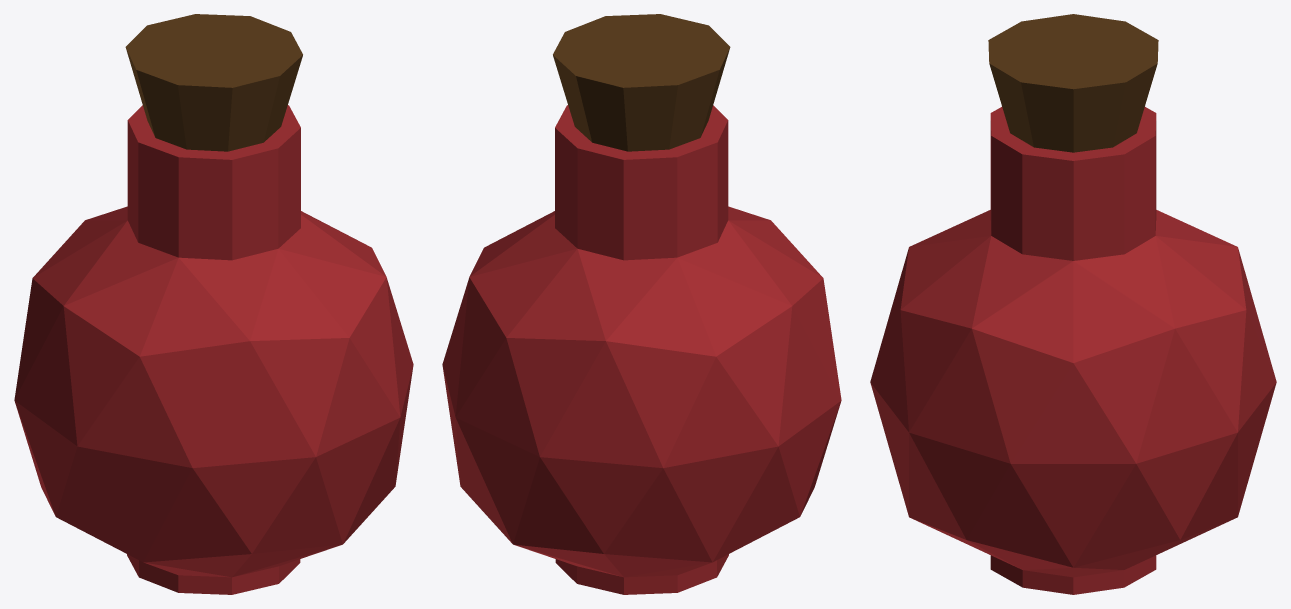
Rendered from MediumPotion.glb.
The picture shows the model from 3 angles, left to right: view 1: azimuth 30°, elevation 25°; view 2: azimuth 150°, elevation 25°; view 3: azimuth 270°, elevation 25°; orthographic projection.
Visible parts, largest first — view 1: Potion, Plug; view 2: Potion, Plug; view 3: Potion, Plug.
Boxes of the visible parts, x1,y1,x2,y2 form: Potion: (14,105,413,594); Plug: (125,14,302,151); Potion: (442,105,841,594); Plug: (553,14,730,151); Potion: (870,107,1276,594); Plug: (988,14,1158,152).
Size of the model in its own units: 0.2119 by 0.3063 by 0.2228.
